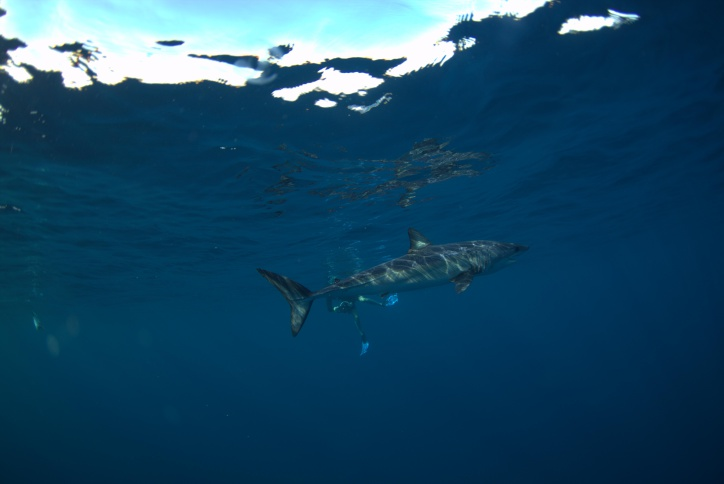Mako: (247, 223, 545, 344)
